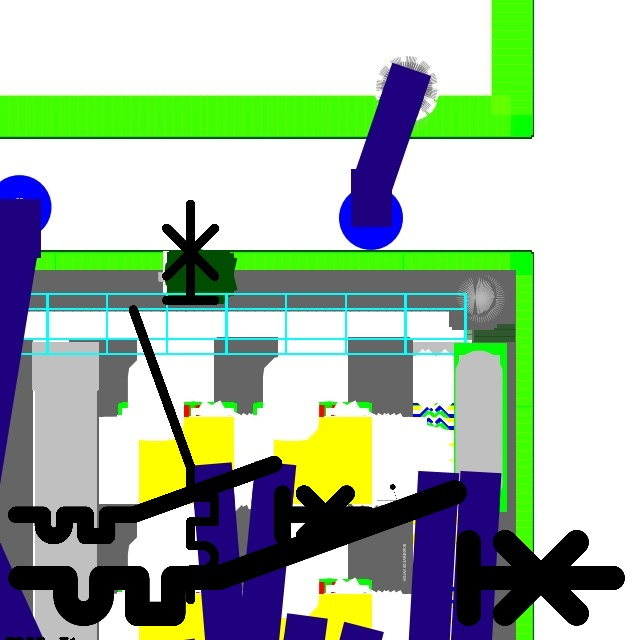interruptor_termomagnetico: (5, 477, 628, 629), (123, 194, 225, 610), (7, 455, 377, 545)
